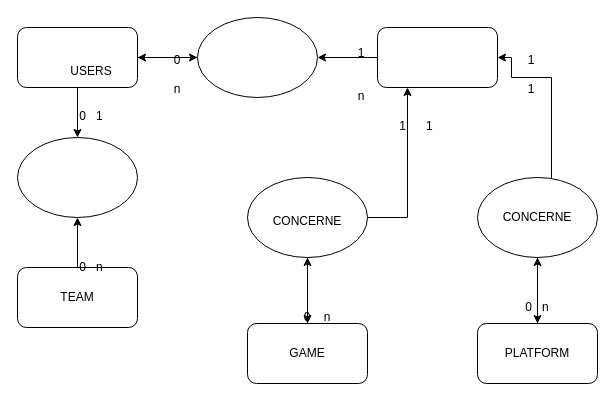
The diagram is 615 pixels wide and 401 high, and some of its shapes have lost their labels. Here are the shapes that lost their labels. From the top down, the centre of each, then its label:
point (257, 57): PARTICIPE
point (437, 57): TOURNAMENT
point (77, 177): CONTIENT
